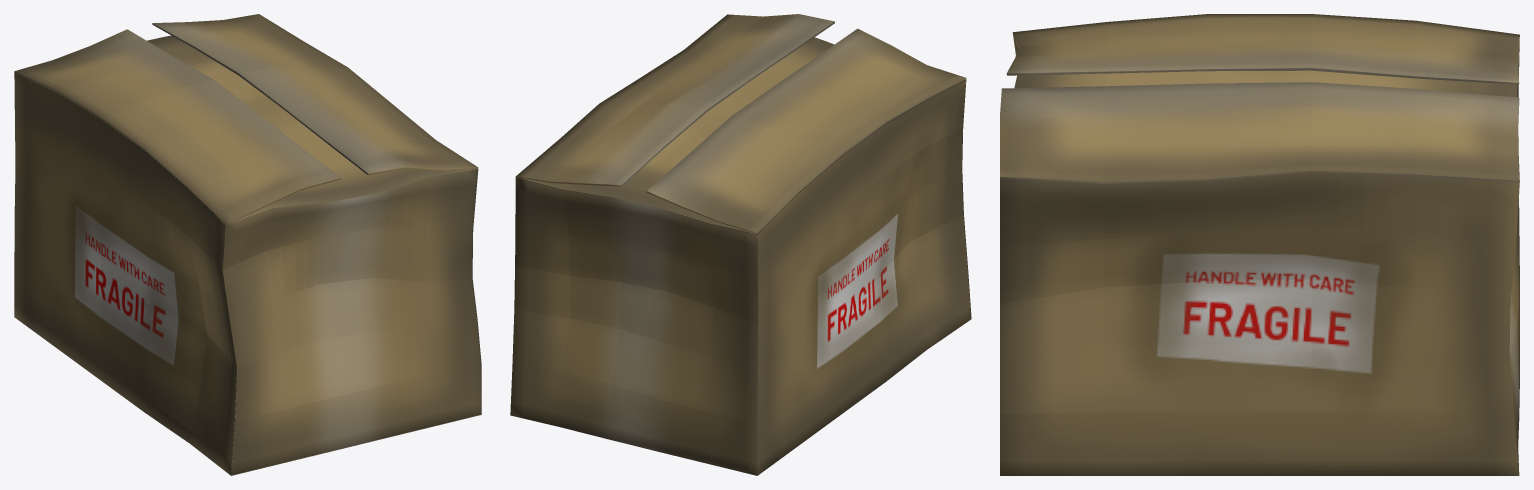
The model's file is VeryGoodDoosje.fbx.
3 renders of one model, left to right at view 1: azimuth 30°, elevation 25°; view 2: azimuth 150°, elevation 25°; view 3: azimuth 270°, elevation 25°, orthographic. The views are drawn at different scales.
Parts seen in each view (by area): view 1: Cube; view 2: Cube; view 3: Cube.
Part boxes in pixels (bbox=[...]): Cube: bbox=[14, 14, 481, 475]; Cube: bbox=[510, 14, 971, 475]; Cube: bbox=[1000, 14, 1519, 475].
Size of the model in its own units: 200 by 209 by 300.
